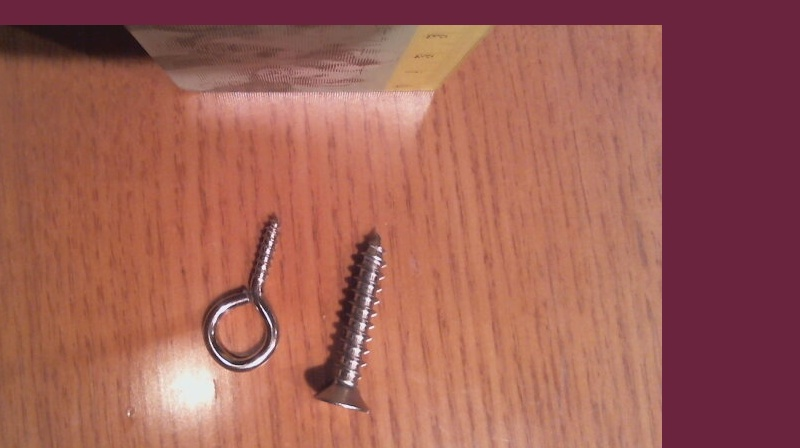O001: (195, 209, 289, 373)
S001: (308, 225, 389, 415)
